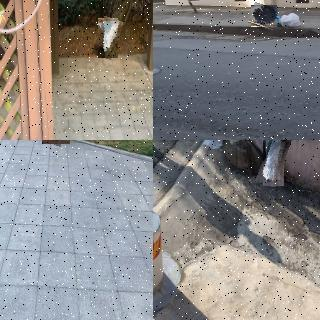Garbage: (259, 140, 288, 186), (95, 17, 121, 59), (250, 4, 278, 29), (280, 13, 302, 28), (274, 16, 283, 27)
